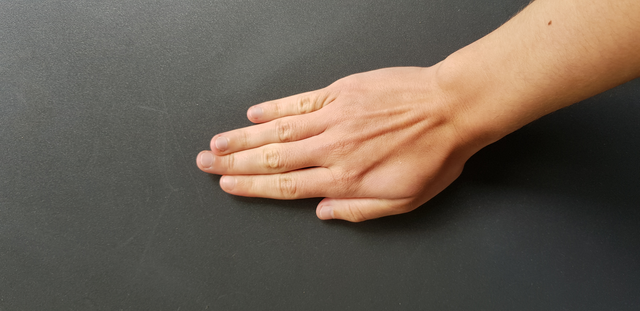Paper: (170, 65, 476, 240)
